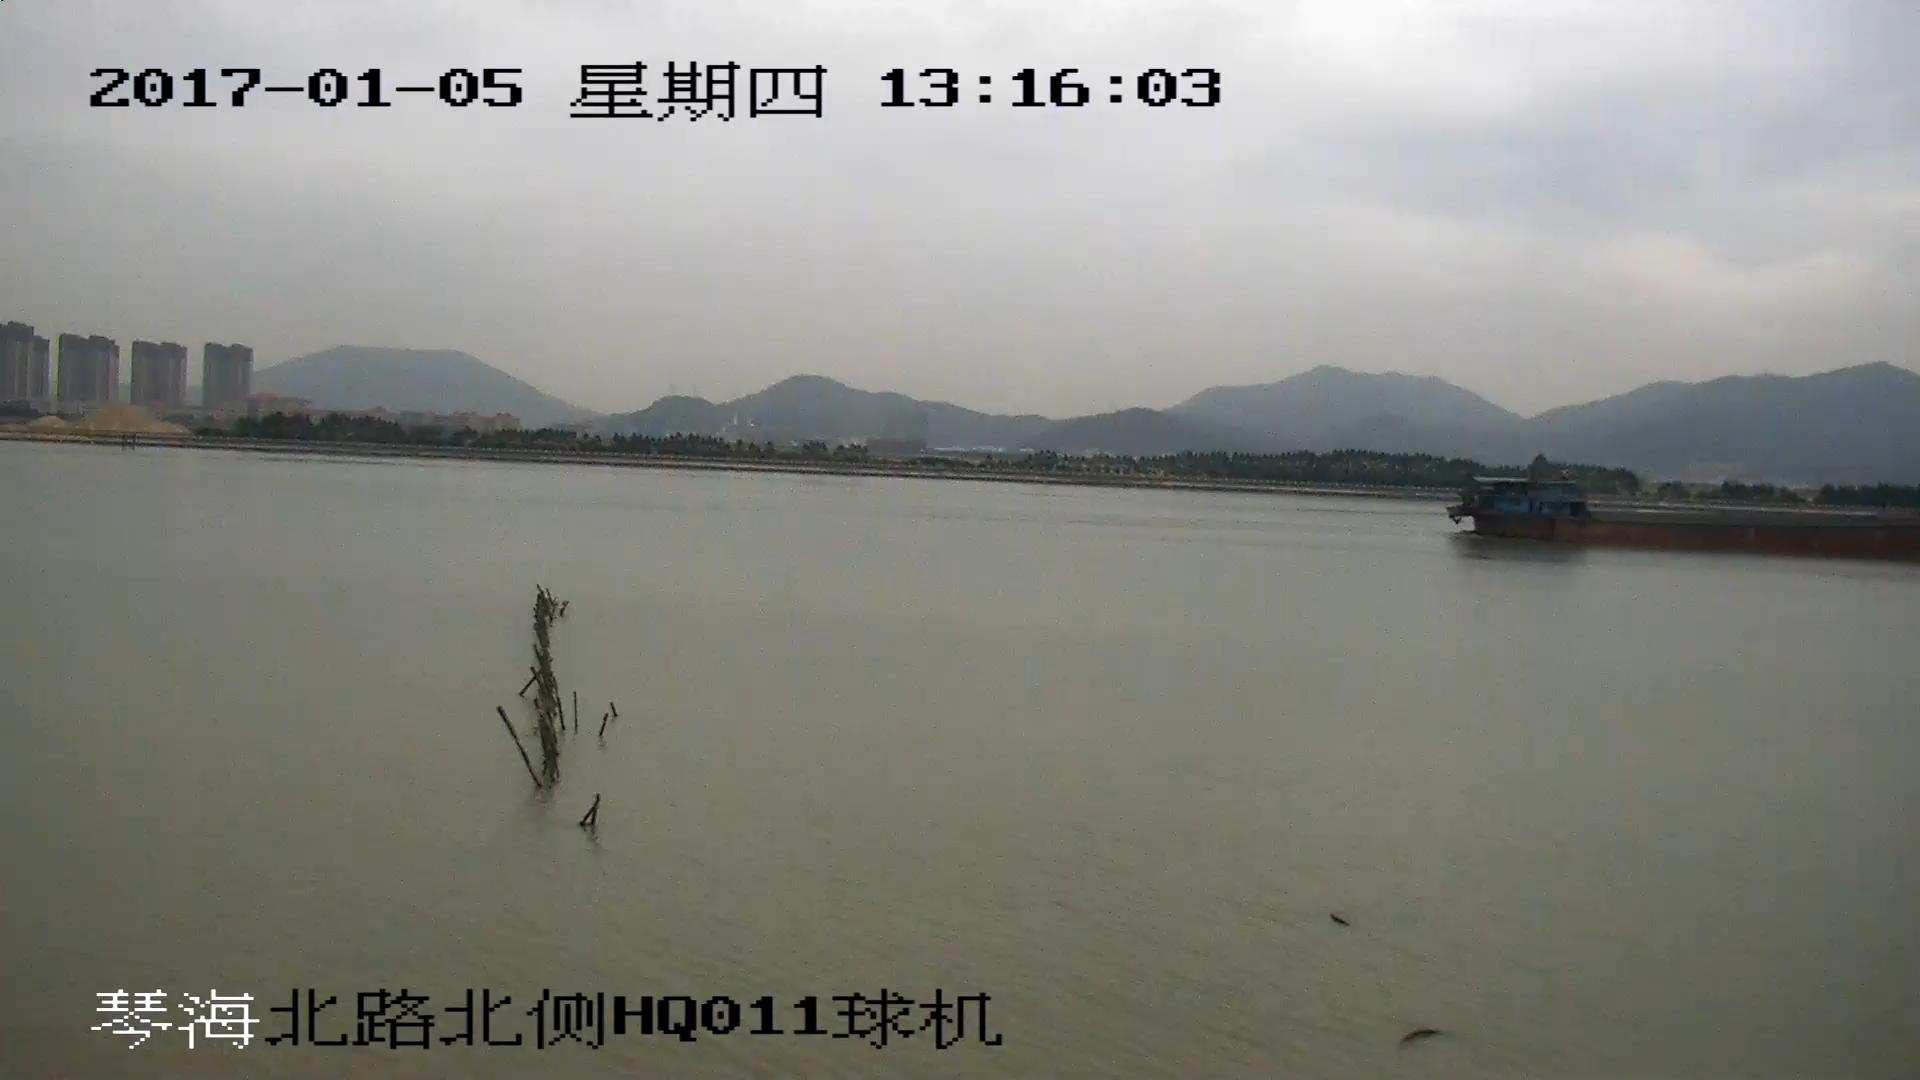bulk cargo carrier: (1451, 480, 1920, 554)
